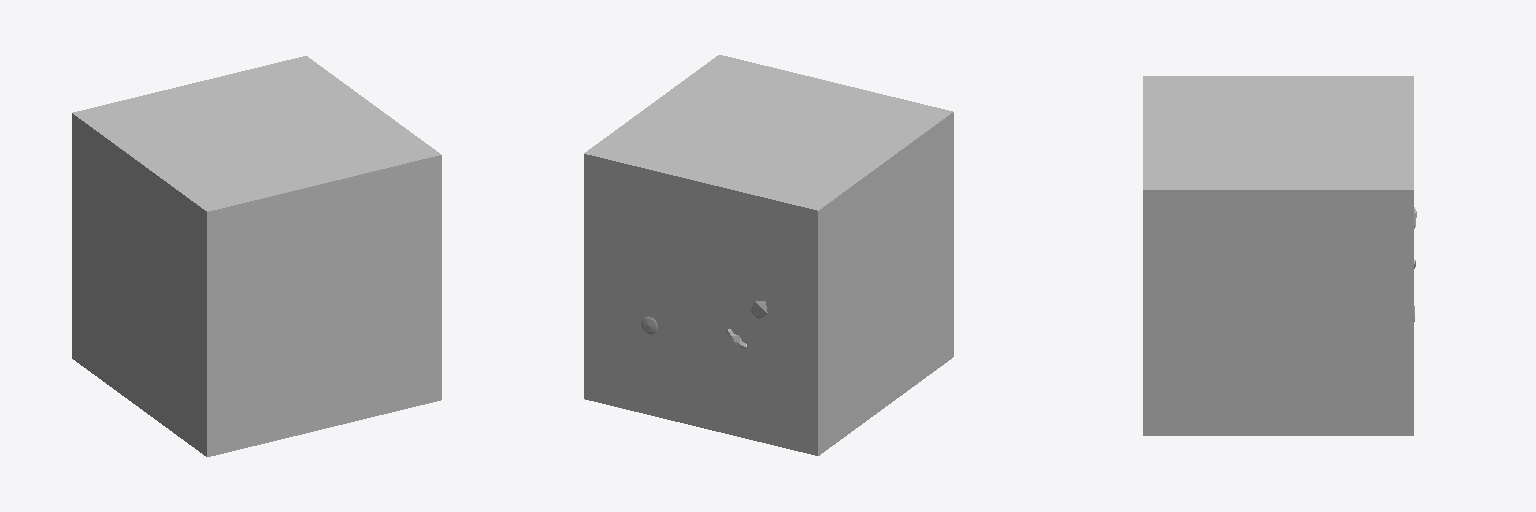
3 renders of one model, left to right at view 1: azimuth 30°, elevation 25°; view 2: azimuth 150°, elevation 25°; view 3: azimuth 270°, elevation 25°, orthographic.
Visible parts, largest first — view 1: Cube; view 2: Cube; view 3: Cube.
Boxes of the visible parts, x1,y1,x2,y2 form: Cube: [72, 56, 441, 456]; Cube: [584, 55, 953, 455]; Cube: [1143, 76, 1413, 435].
Bounding box in the file's own units: 11.43 × 11.43 × 11.57.